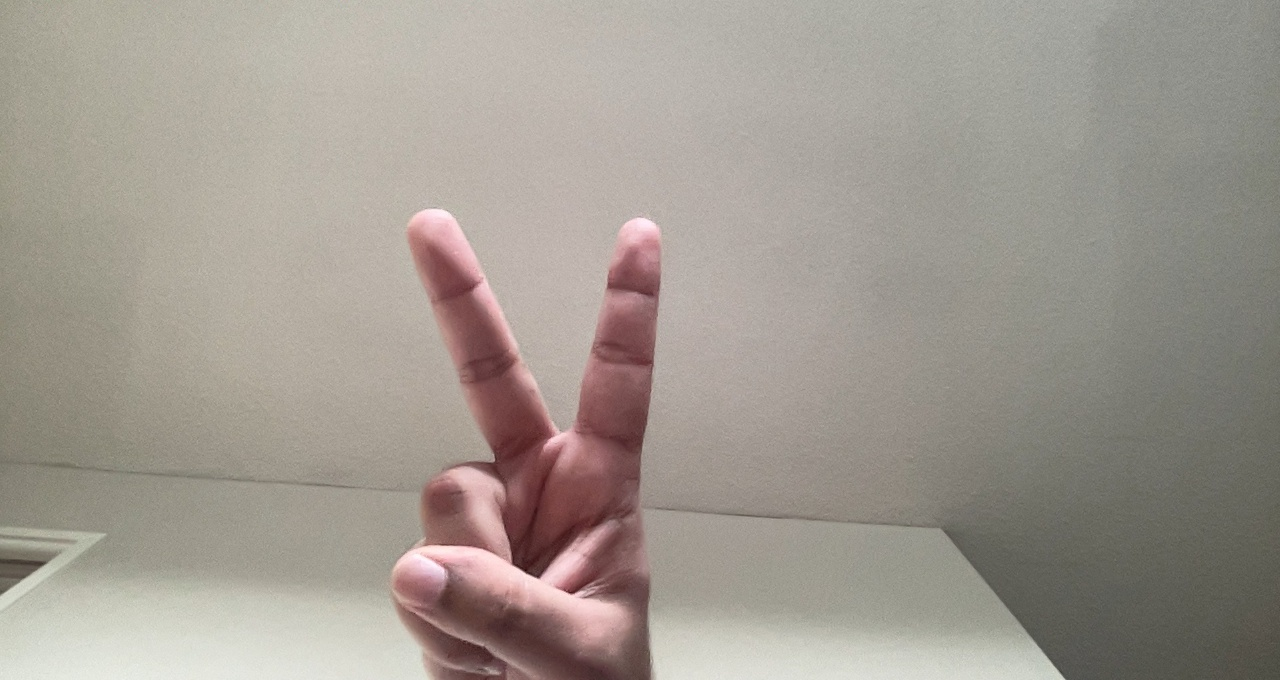peace sign: (391, 197, 672, 680)
